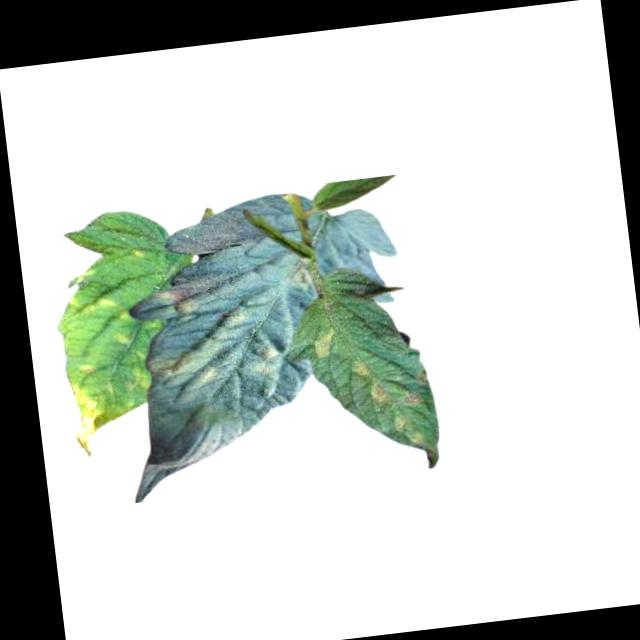Leaf_Mold: (140, 309, 254, 396), (63, 375, 131, 460), (152, 269, 230, 319), (61, 288, 129, 332), (347, 357, 388, 411), (251, 340, 285, 383), (306, 326, 340, 365), (279, 258, 315, 291)
